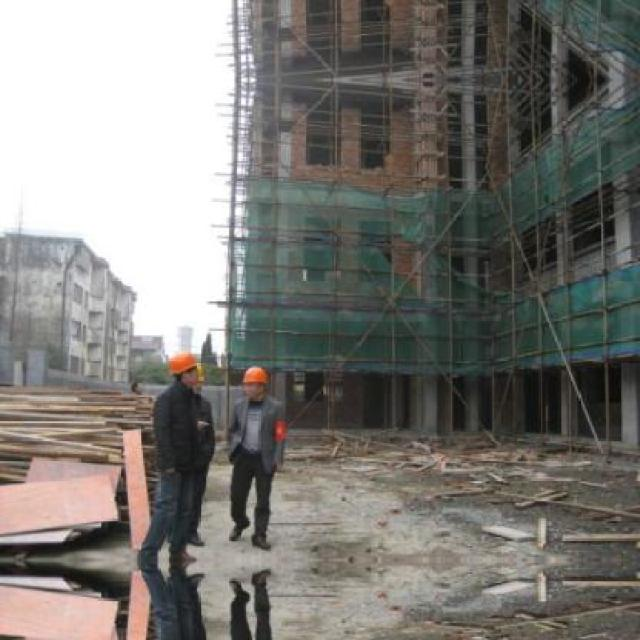helmet: (165, 348, 201, 390), (238, 363, 270, 400)
